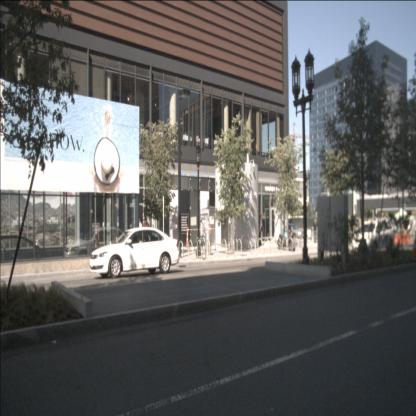human-pedestrian-adult: (140, 216, 152, 256), (311, 218, 320, 243)
movable_object-barrier: (394, 234, 402, 245), (400, 233, 406, 244), (404, 234, 410, 244)
movable_object-trafficcone: (412, 230, 416, 262), (209, 224, 212, 246), (186, 226, 188, 247)
vehicle-car: (90, 226, 180, 279), (64, 226, 132, 262), (352, 216, 395, 254), (274, 223, 305, 242)
vehicle-motorcycle: (277, 229, 295, 251)
